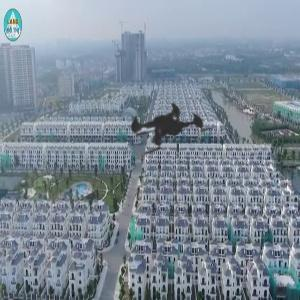drone: (94, 50, 237, 193)
